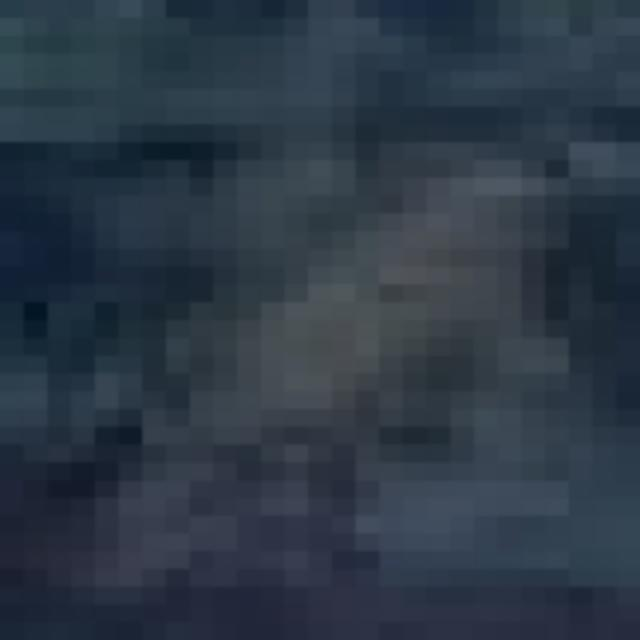fish: (23, 18, 640, 640)
